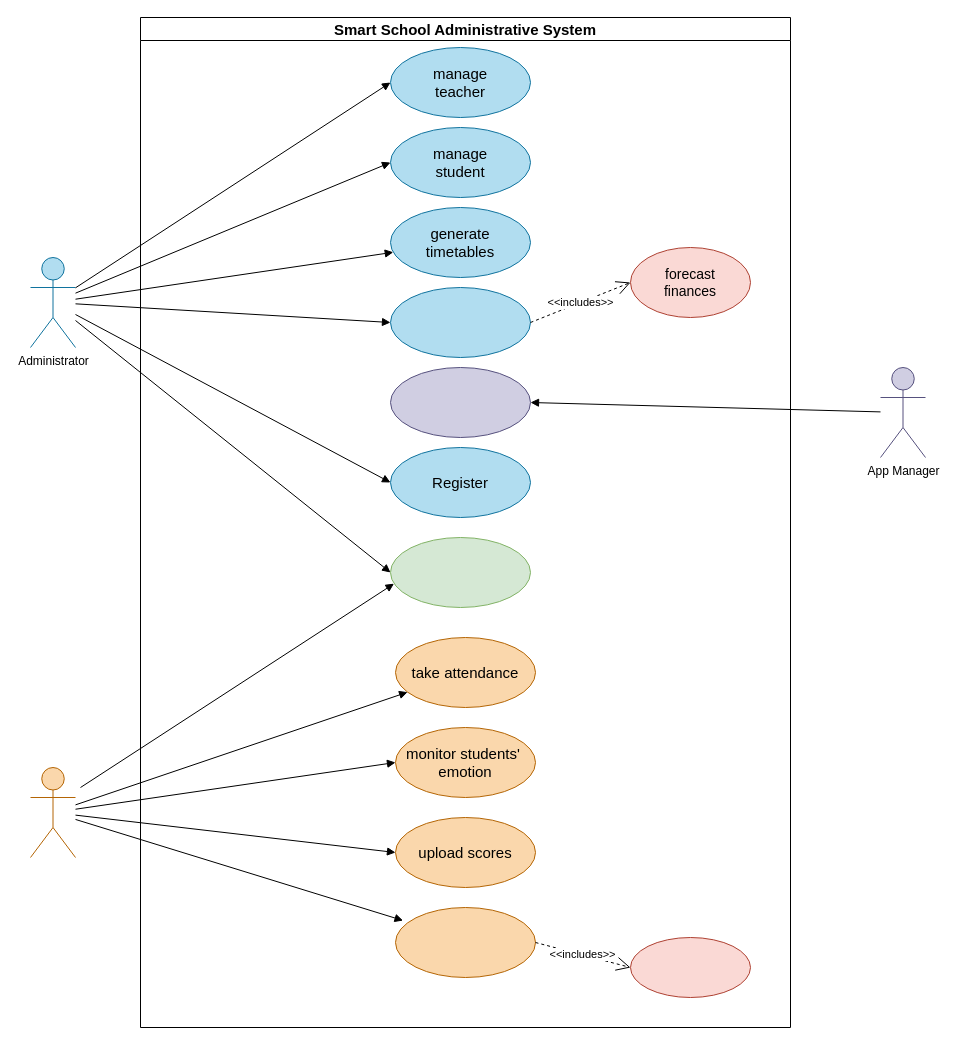
This 956x1045 diagram has some shape labels left out. Here are the shapes that lost their labels. From the top down, the centre of each, then its label:
At (460,322): "manage finances".
At (460,402): "retrain models".
At (460,572): "Login".
At (53,812): "Teacher".
At (465,942): "check students' performance".
At (690,967): "predict performance".
